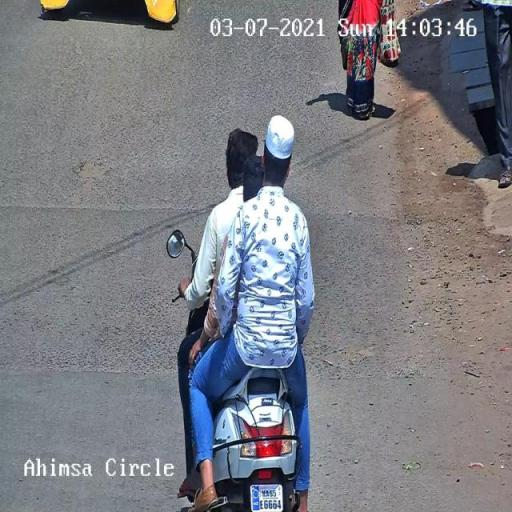tripple riding: (161, 112, 330, 393)
